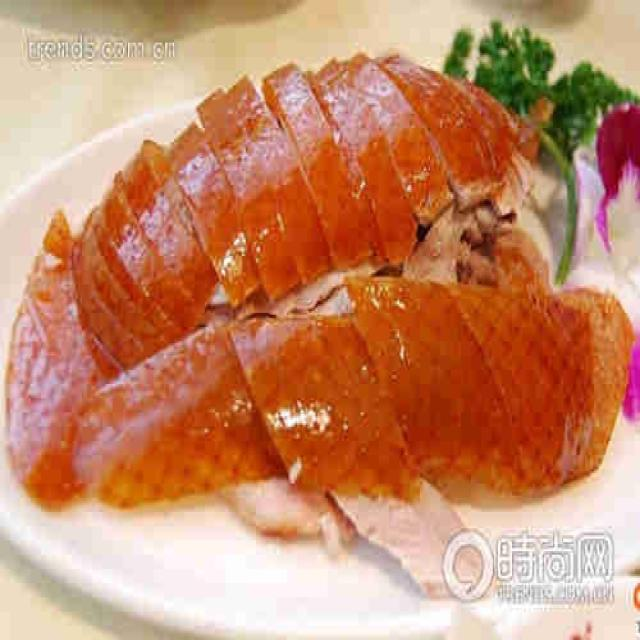烧串烤肉: (4, 27, 637, 549)
